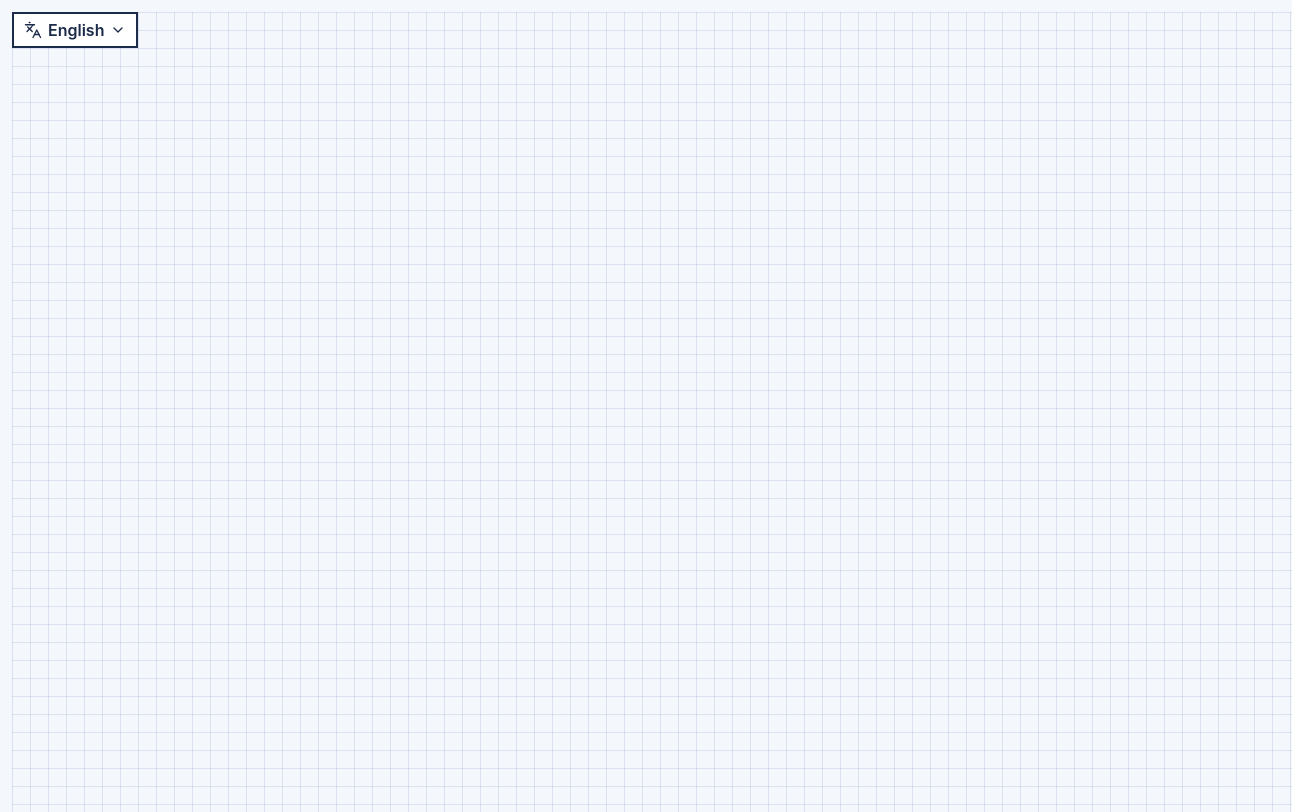
Scenario: LanguageSwitcher (spec 4.2) › remembers the language the visitor picks, and closes
Step 1. Click the button with aria-label "Language: English" → [75, 30], box [12,12,138,48]
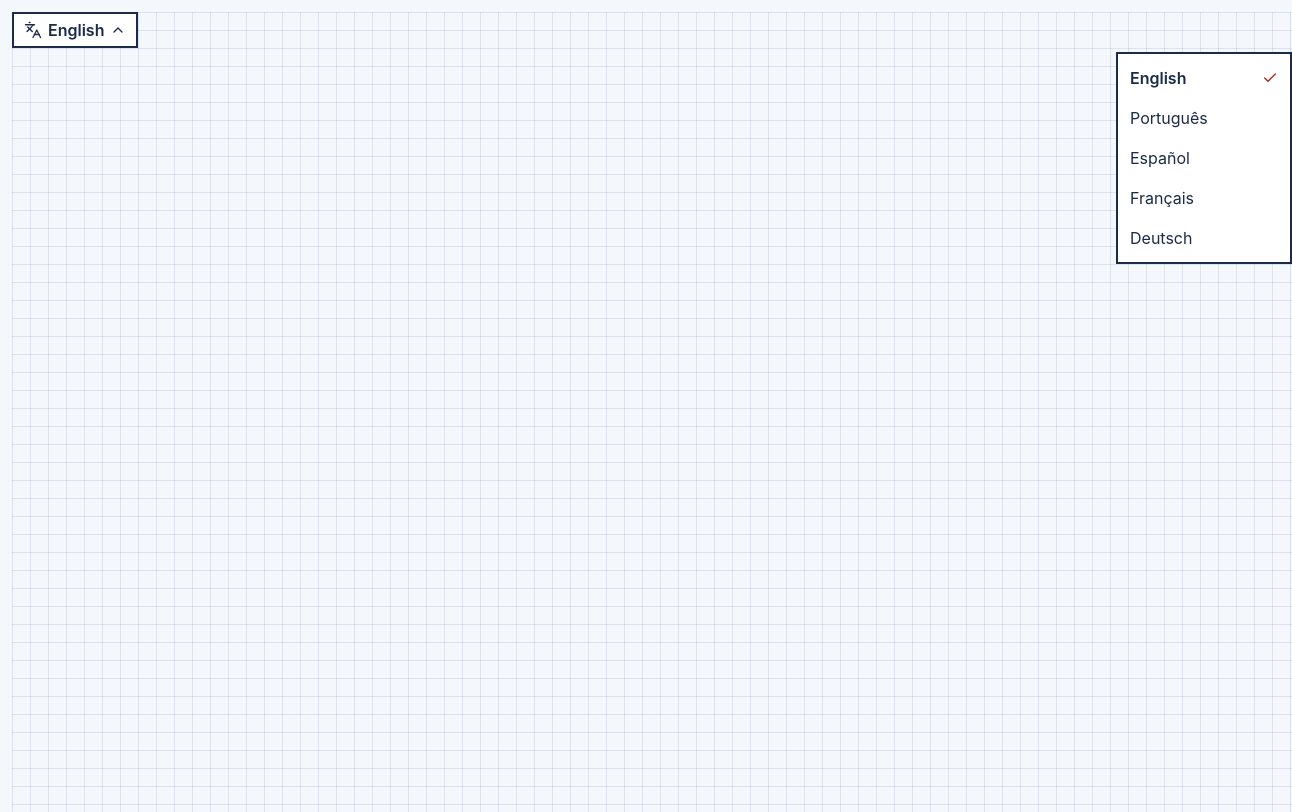
Step 2. Click the link "Português" → [1169, 118], box [1130,108,1208,128]
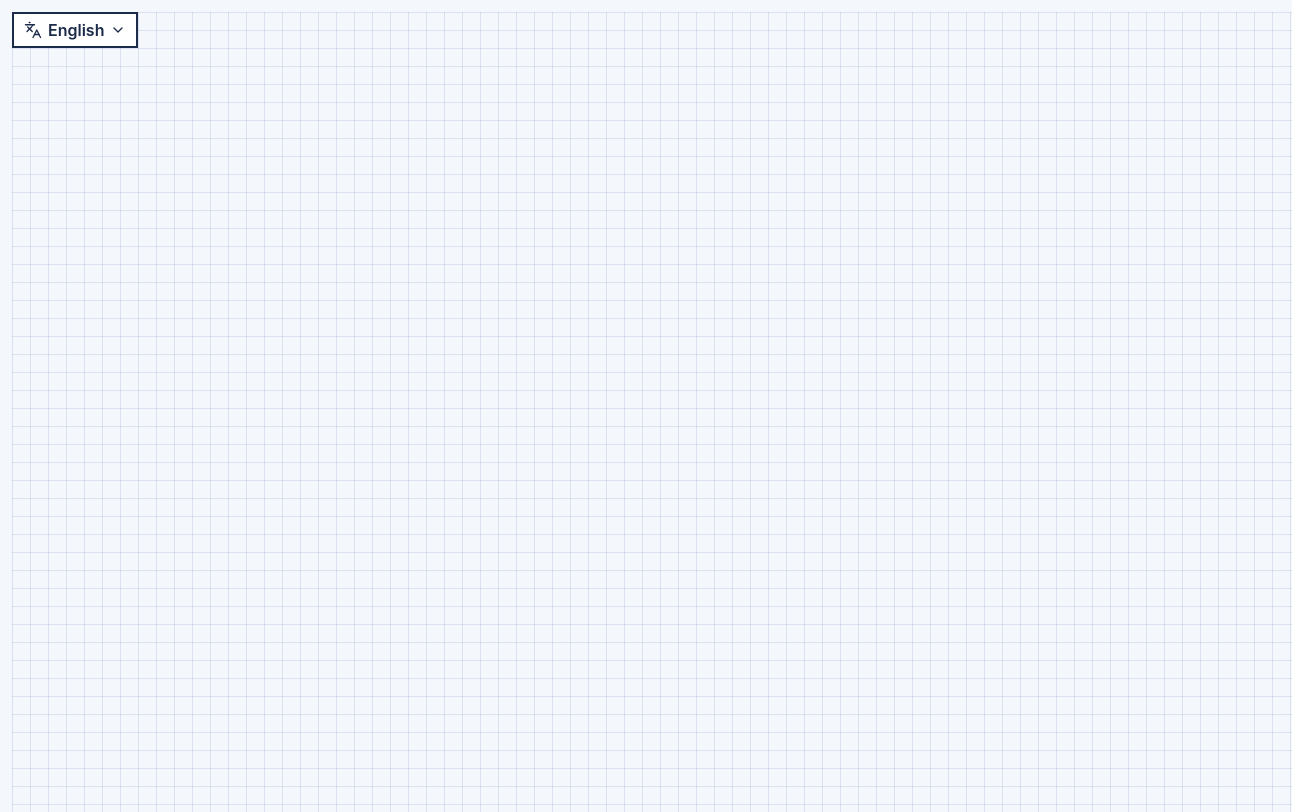
Expected: the button with aria-label "Language: English" is collapsed, [12,12,138,48]
